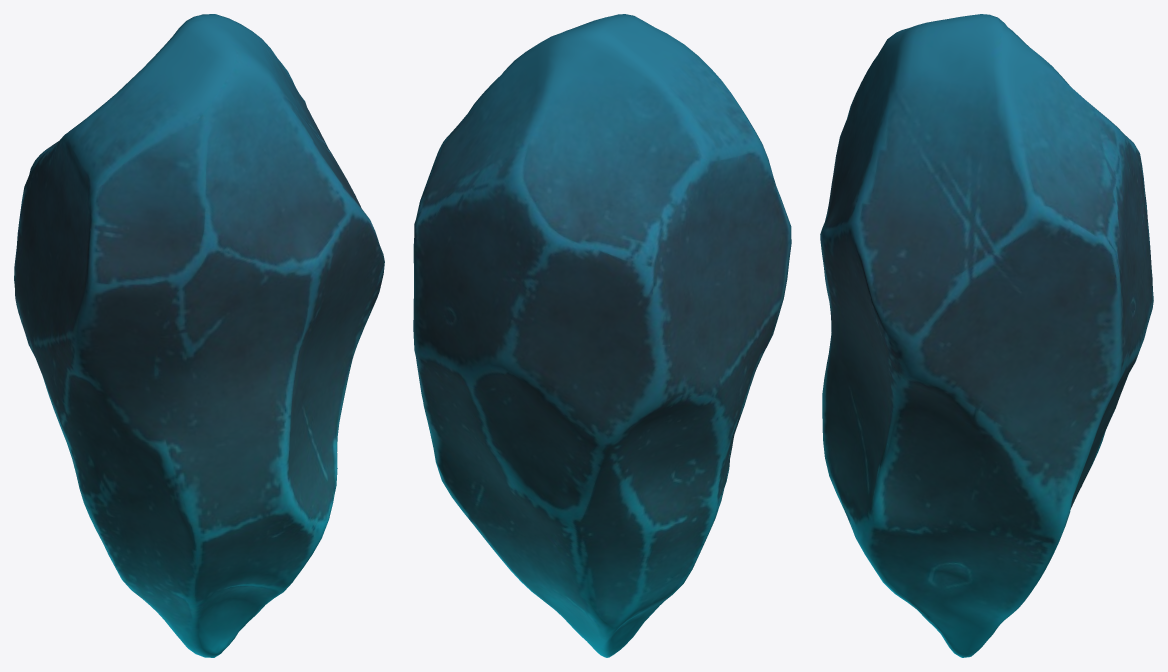
The model's file is crystal-fast.glb.
The picture shows the model from 3 angles, left to right: view 1: azimuth 30°, elevation 25°; view 2: azimuth 150°, elevation 25°; view 3: azimuth 270°, elevation 25°; orthographic projection.
Parts seen in each view (by area): view 1: PM3D_Sphere3D_2; view 2: PM3D_Sphere3D_2; view 3: PM3D_Sphere3D_2.
Part boxes in pixels (box(x1,y1,x2,y2)): PM3D_Sphere3D_2: box(14, 14, 384, 657); PM3D_Sphere3D_2: box(413, 14, 791, 657); PM3D_Sphere3D_2: box(820, 14, 1153, 657).
Bounding box in the file's own units: 1 × 2 × 0.9443.
Materials: 1 (1 with a texture image).
